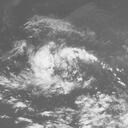cyclone: (32, 43, 88, 92)
